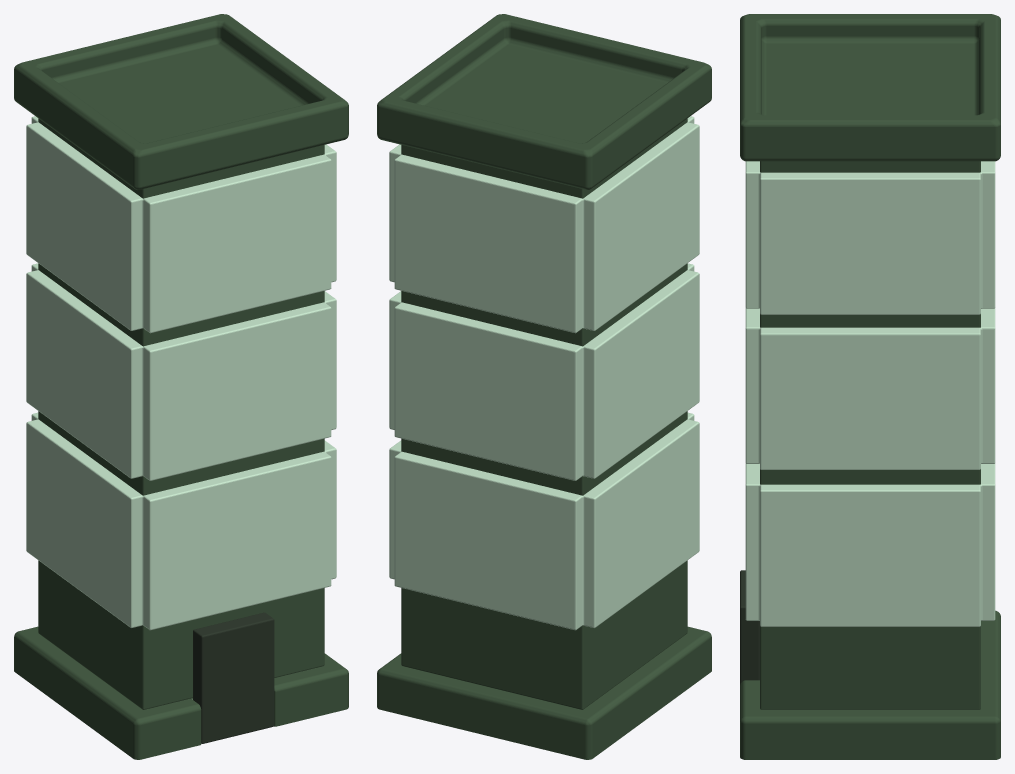
The model's file is predio_retangular.fbx.
3 views of the same model, side by side, from view 1: azimuth 30°, elevation 25°; view 2: azimuth 150°, elevation 25°; view 3: azimuth 270°, elevation 25° (orthographic). The views are drawn at different scales.
Parts seen in each view (by area): view 1: Predio_alto; view 2: Predio_alto; view 3: Predio_alto.
Boxes of the visible parts, x1,y1,x2,y2 form: Predio_alto: [14, 14, 348, 759]; Predio_alto: [377, 14, 711, 759]; Predio_alto: [740, 14, 1000, 759].
Size of the model in its own units: 503 by 1359 by 503.
